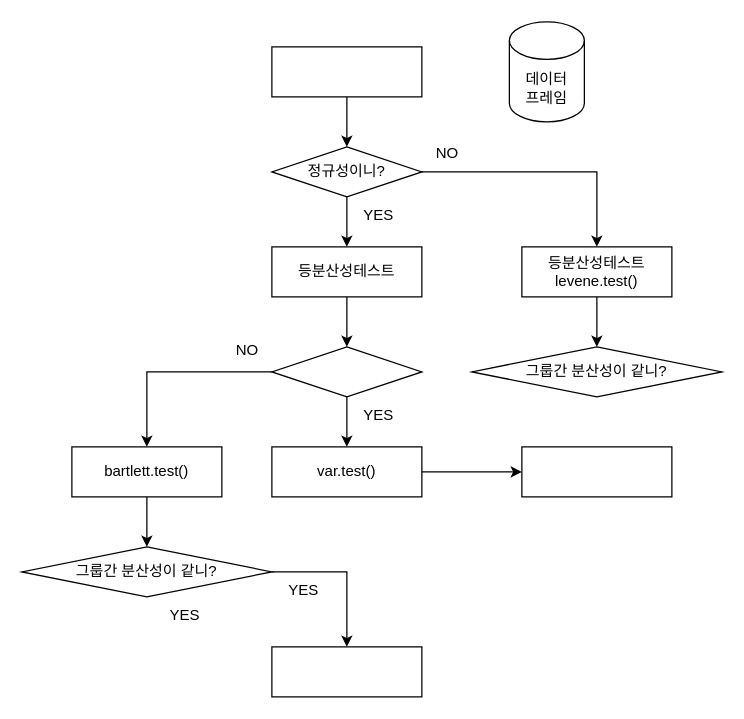
Image size: 744x719. Some labels were removed from this diagram. Each missing label, with the centre of its shape:
"aov()" belongs at [346,671].
"t.test()" belongs at [596,471].
"그룹이 2개니?" belongs at [346,371].
"정규성검사" belongs at [346,71].
